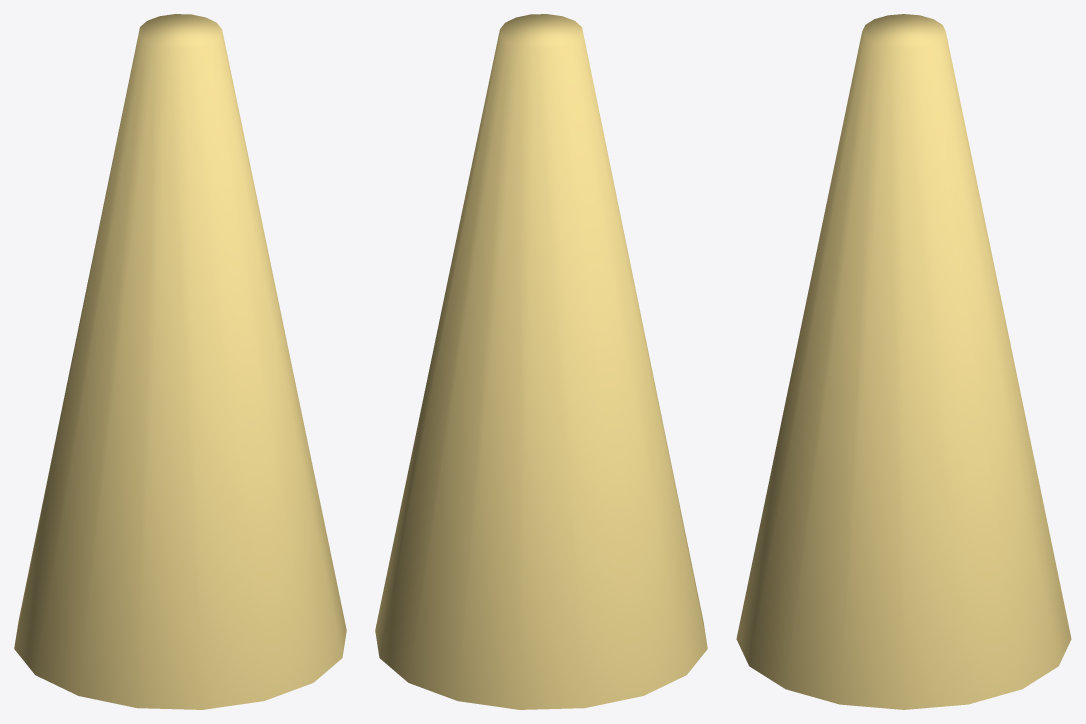
Rendered from Godray.fbx.
3 renders of one model, left to right at view 1: azimuth 30°, elevation 25°; view 2: azimuth 150°, elevation 25°; view 3: azimuth 270°, elevation 25°, orthographic.
Visible parts, largest first — view 1: Cone; view 2: Cone; view 3: Cone.
Part boxes in pixels (x1=…): Cone: x1=14, y1=14, x2=346, y2=709; Cone: x1=375, y1=14, x2=707, y2=709; Cone: x1=736, y1=14, x2=1071, y2=709.
Size of the model in its own units: 100 by 200 by 100.
